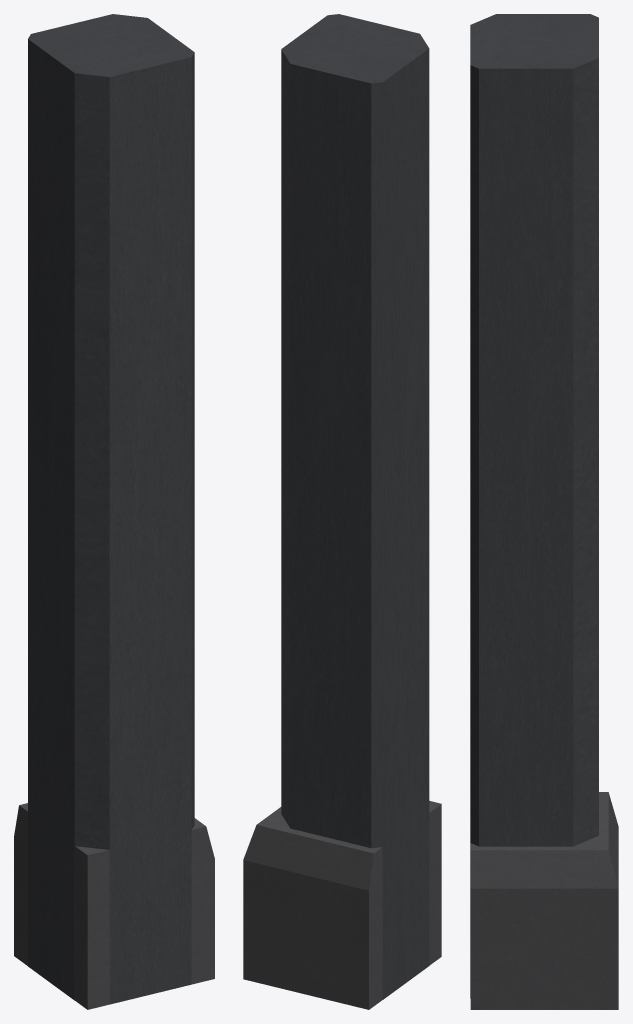
File: wall_corner.FBX
3 renders of one model, left to right at view 1: azimuth 30°, elevation 25°; view 2: azimuth 150°, elevation 25°; view 3: azimuth 270°, elevation 25°, orthographic.
Visible parts, largest first — view 1: Box011, Box012; view 2: Box011, Box012; view 3: Box011, Box012.
Boxes of the visible parts, x1=… form: Box011: x1=28, y1=14, x2=194, y2=1004; Box012: x1=14, y1=803, x2=214, y2=1009; Box011: x1=281, y1=14, x2=429, y2=999; Box012: x1=243, y1=801, x2=441, y2=1009; Box011: x1=470, y1=14, x2=598, y2=998; Box012: x1=470, y1=792, x2=618, y2=1009.
Bounding box in the file's own units: 0.8623 × 6 × 0.8622.
Materials: 2 (2 with a texture image).
